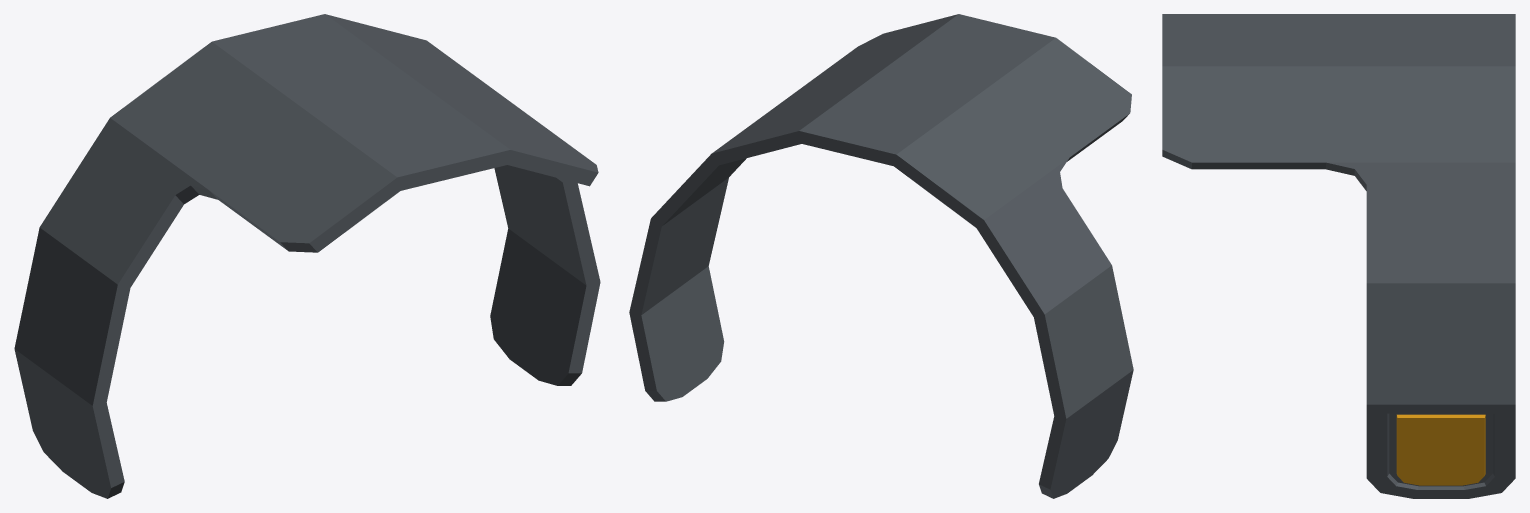
Rendered from Personal_Vehicle_04_Frontal_Guard_Yellow.fbx.
The picture shows the model from 3 angles, left to right: view 1: azimuth 30°, elevation 25°; view 2: azimuth 150°, elevation 25°; view 3: azimuth 270°, elevation 25°; orthographic projection. The views are drawn at different scales.
Parts seen in each view (by area): view 1: Personal_Vehicle_04_Frontal_Guard_Yellow; view 2: Personal_Vehicle_04_Frontal_Guard_Yellow; view 3: Personal_Vehicle_04_Frontal_Guard_Yellow.
Boxes of the visible parts, box(x1,y1,x2,y2) form: Personal_Vehicle_04_Frontal_Guard_Yellow: box(14, 14, 600, 498); Personal_Vehicle_04_Frontal_Guard_Yellow: box(629, 14, 1133, 498); Personal_Vehicle_04_Frontal_Guard_Yellow: box(1162, 14, 1515, 498).
Bounding box in the file's own units: 79.03 × 54.97 × 50.02.
Materials: 1 (1 with a texture image).
